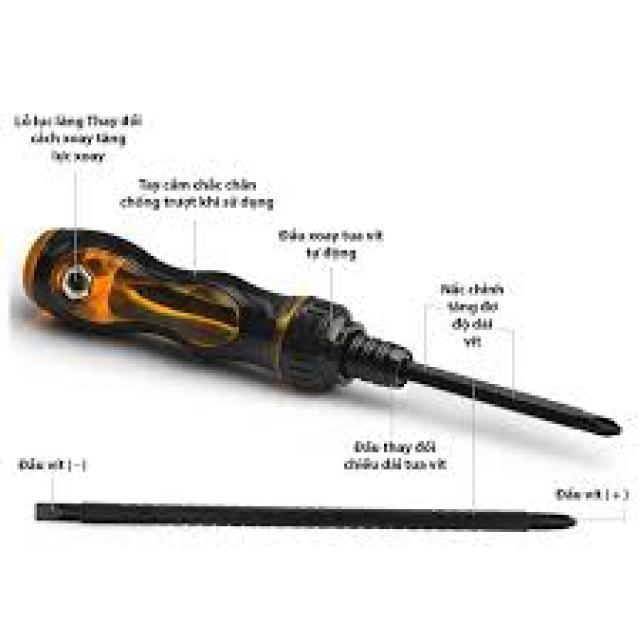screwdriver: (22, 226, 628, 445)
